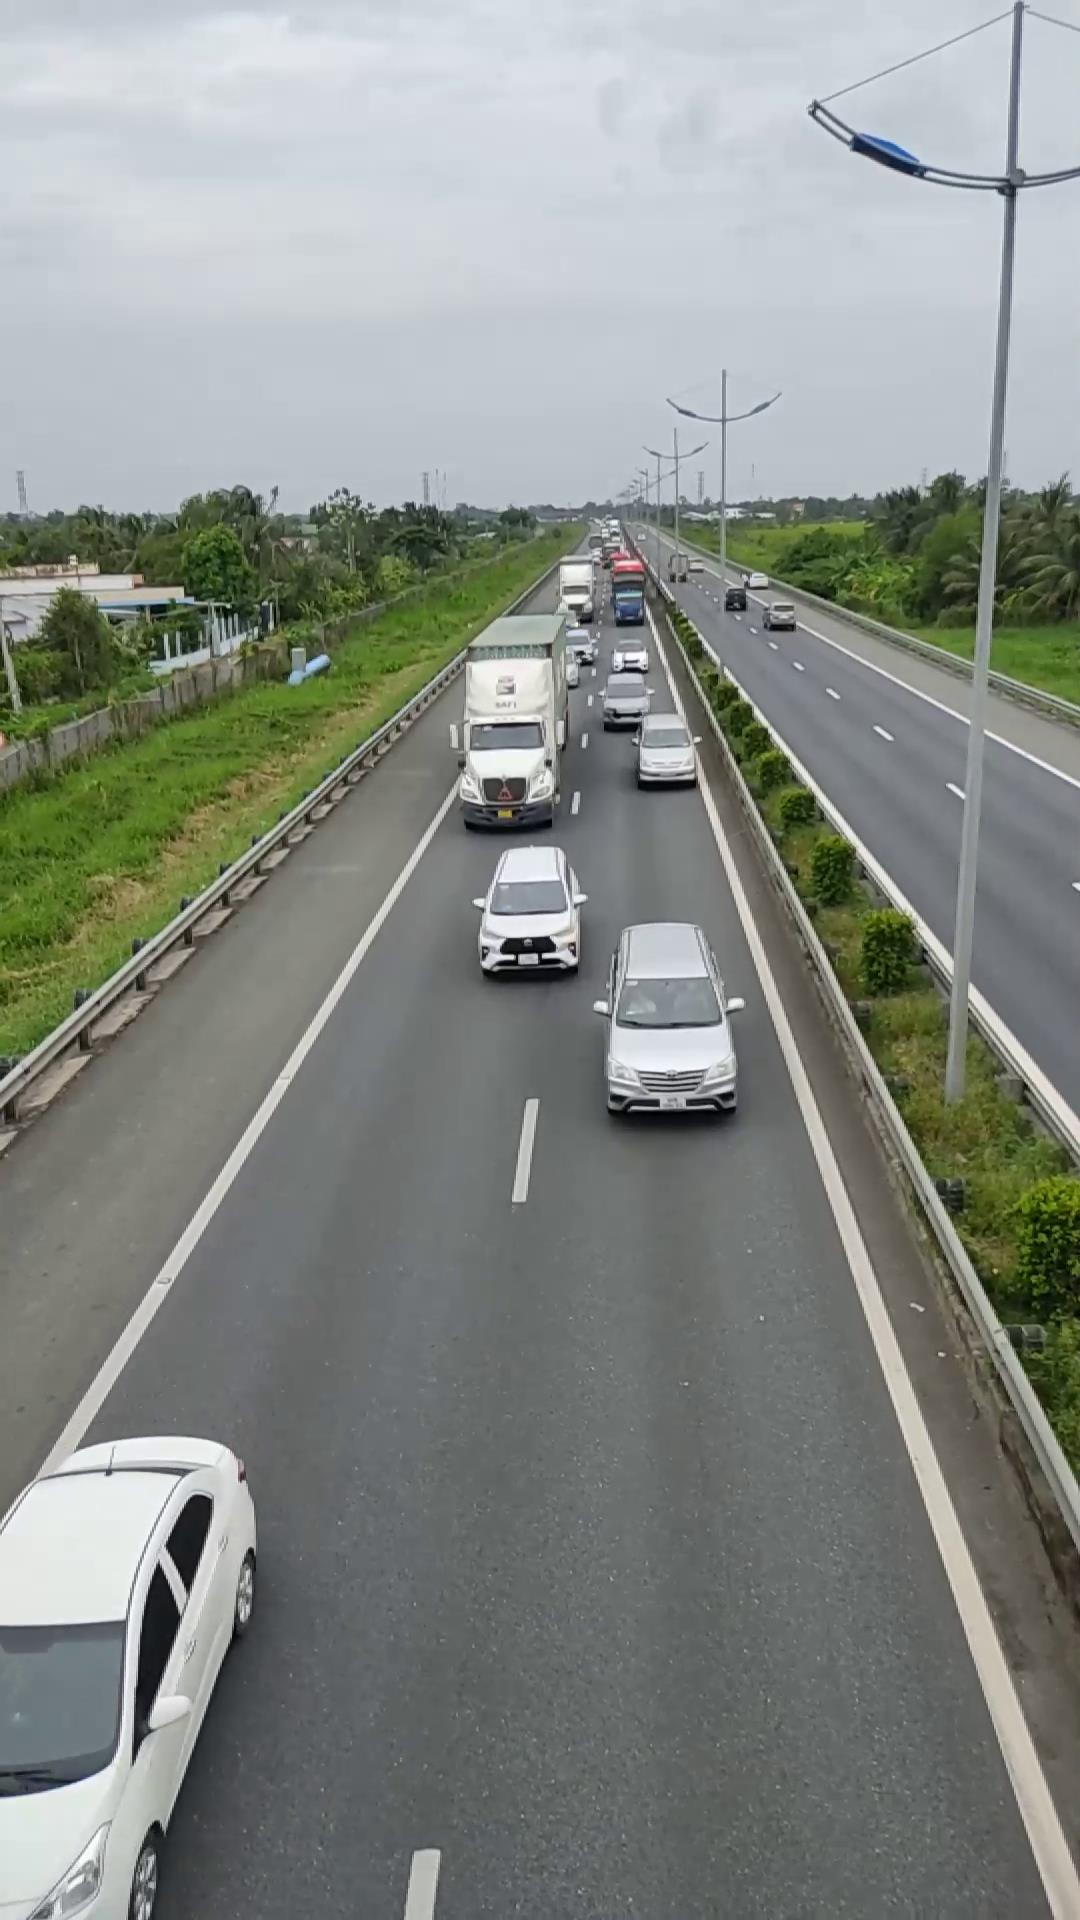car: (0, 1431, 260, 1918), (597, 921, 741, 1118), (473, 844, 587, 977), (633, 712, 700, 787)
container: (451, 611, 572, 828)
